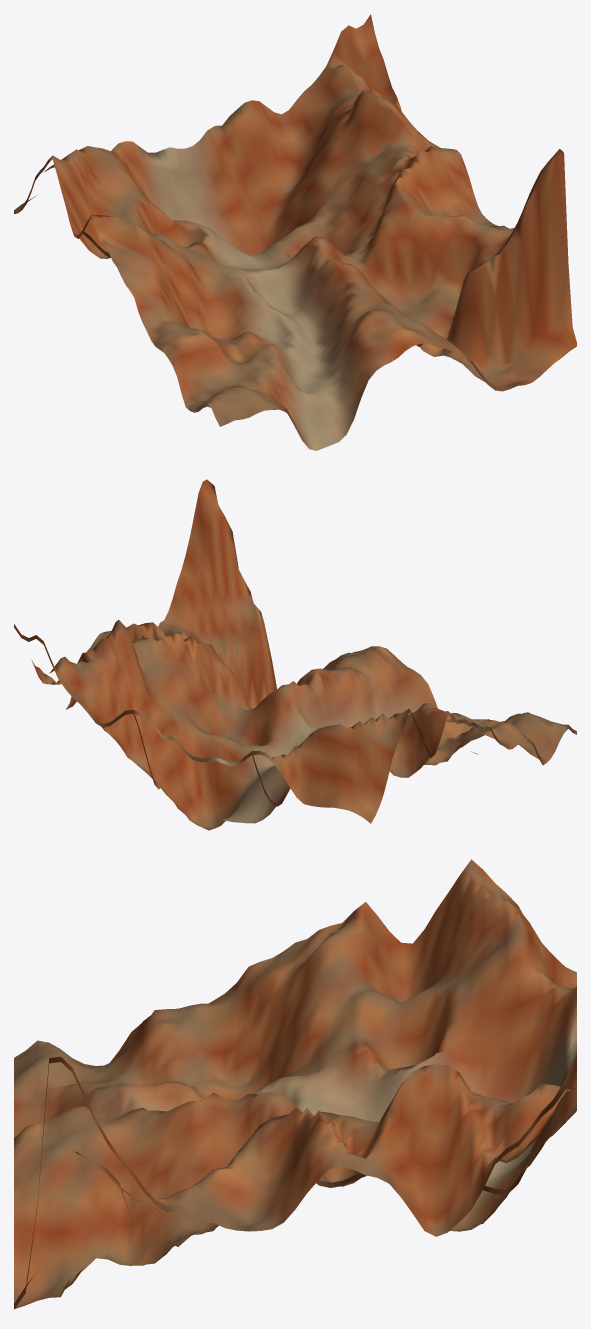
The model's file is terrain-063.glb.
The picture shows the model from 3 angles, top to bottom: view 1: azimuth 30°, elevation 25°; view 2: azimuth 150°, elevation 25°; view 3: azimuth 270°, elevation 25°; orthographic projection. The views are drawn at different scales.
Visible parts, largest first — view 1: terrain-063; view 2: terrain-063; view 3: terrain-063.
Part boxes in pixels (left/top/right/bottom): terrain-063: left=14, top=14, right=576, bottom=450; terrain-063: left=14, top=479, right=576, bottom=830; terrain-063: left=14, top=859, right=576, bottom=1309.
Bounding box in the file's own units: 384 × 233 × 384.
